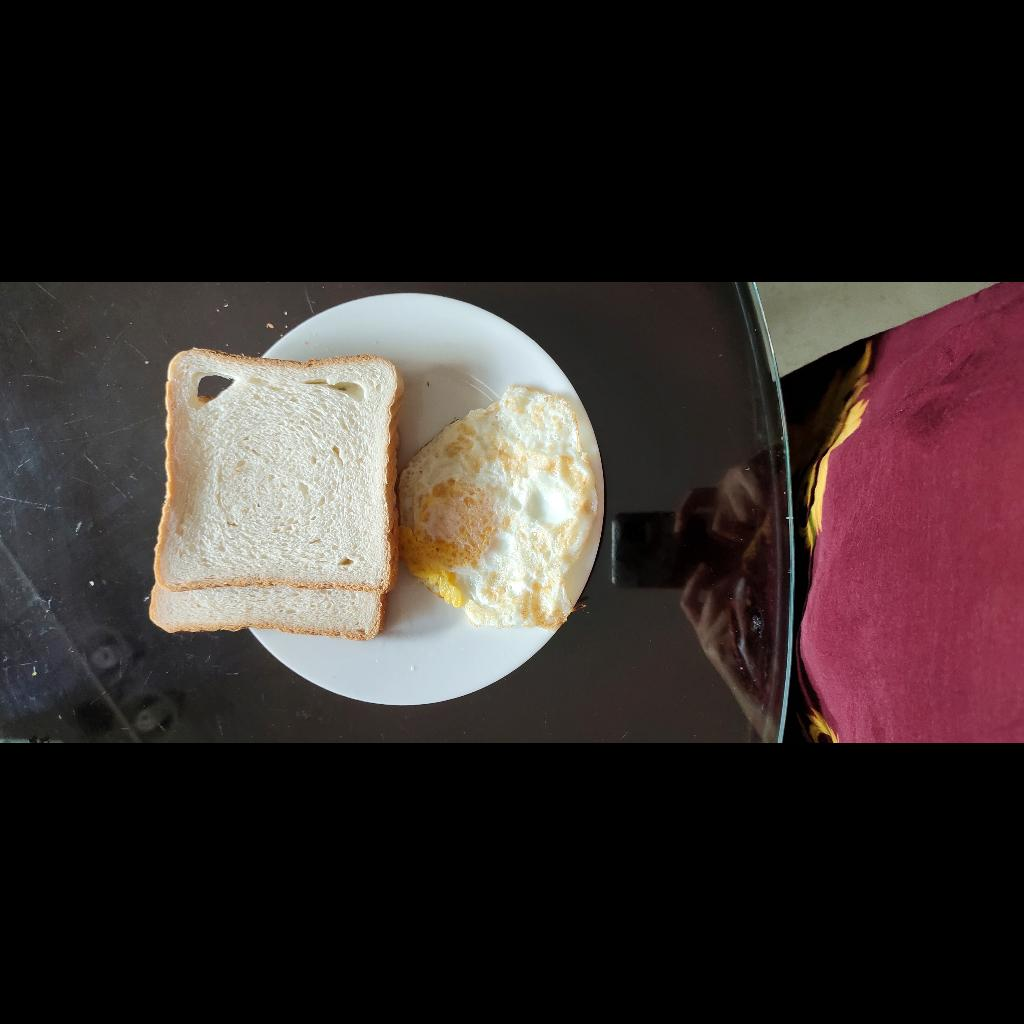bread: (103, 426, 402, 685)
egg-poached: (115, 680, 359, 878)
